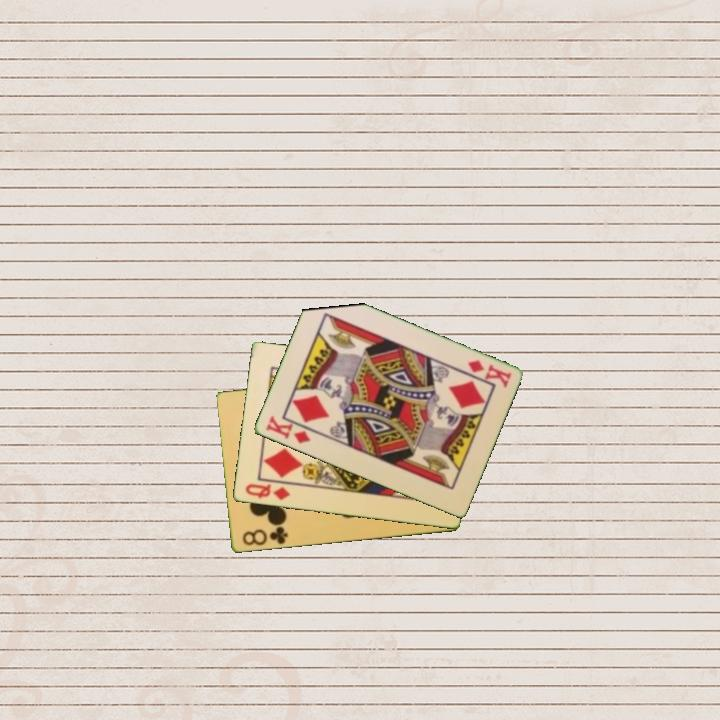8c: (238, 522, 290, 549)
Kd: (262, 412, 313, 447), (464, 356, 514, 390)
Qd: (241, 480, 293, 503)
